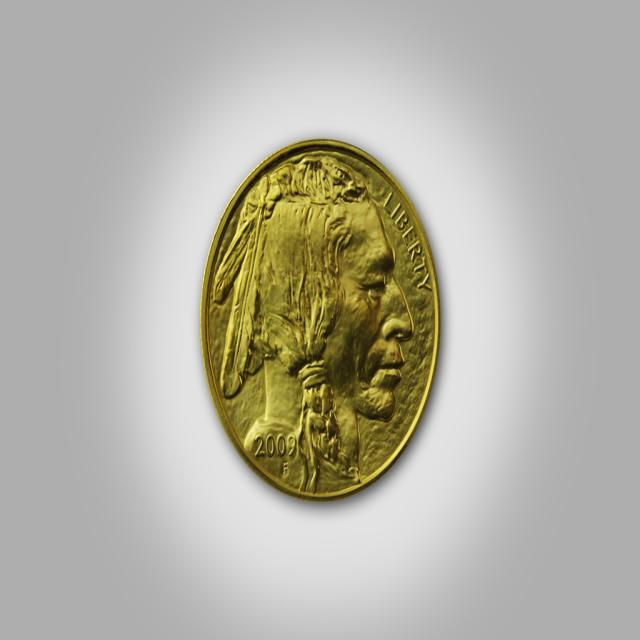Coin: (200, 136, 442, 498)
